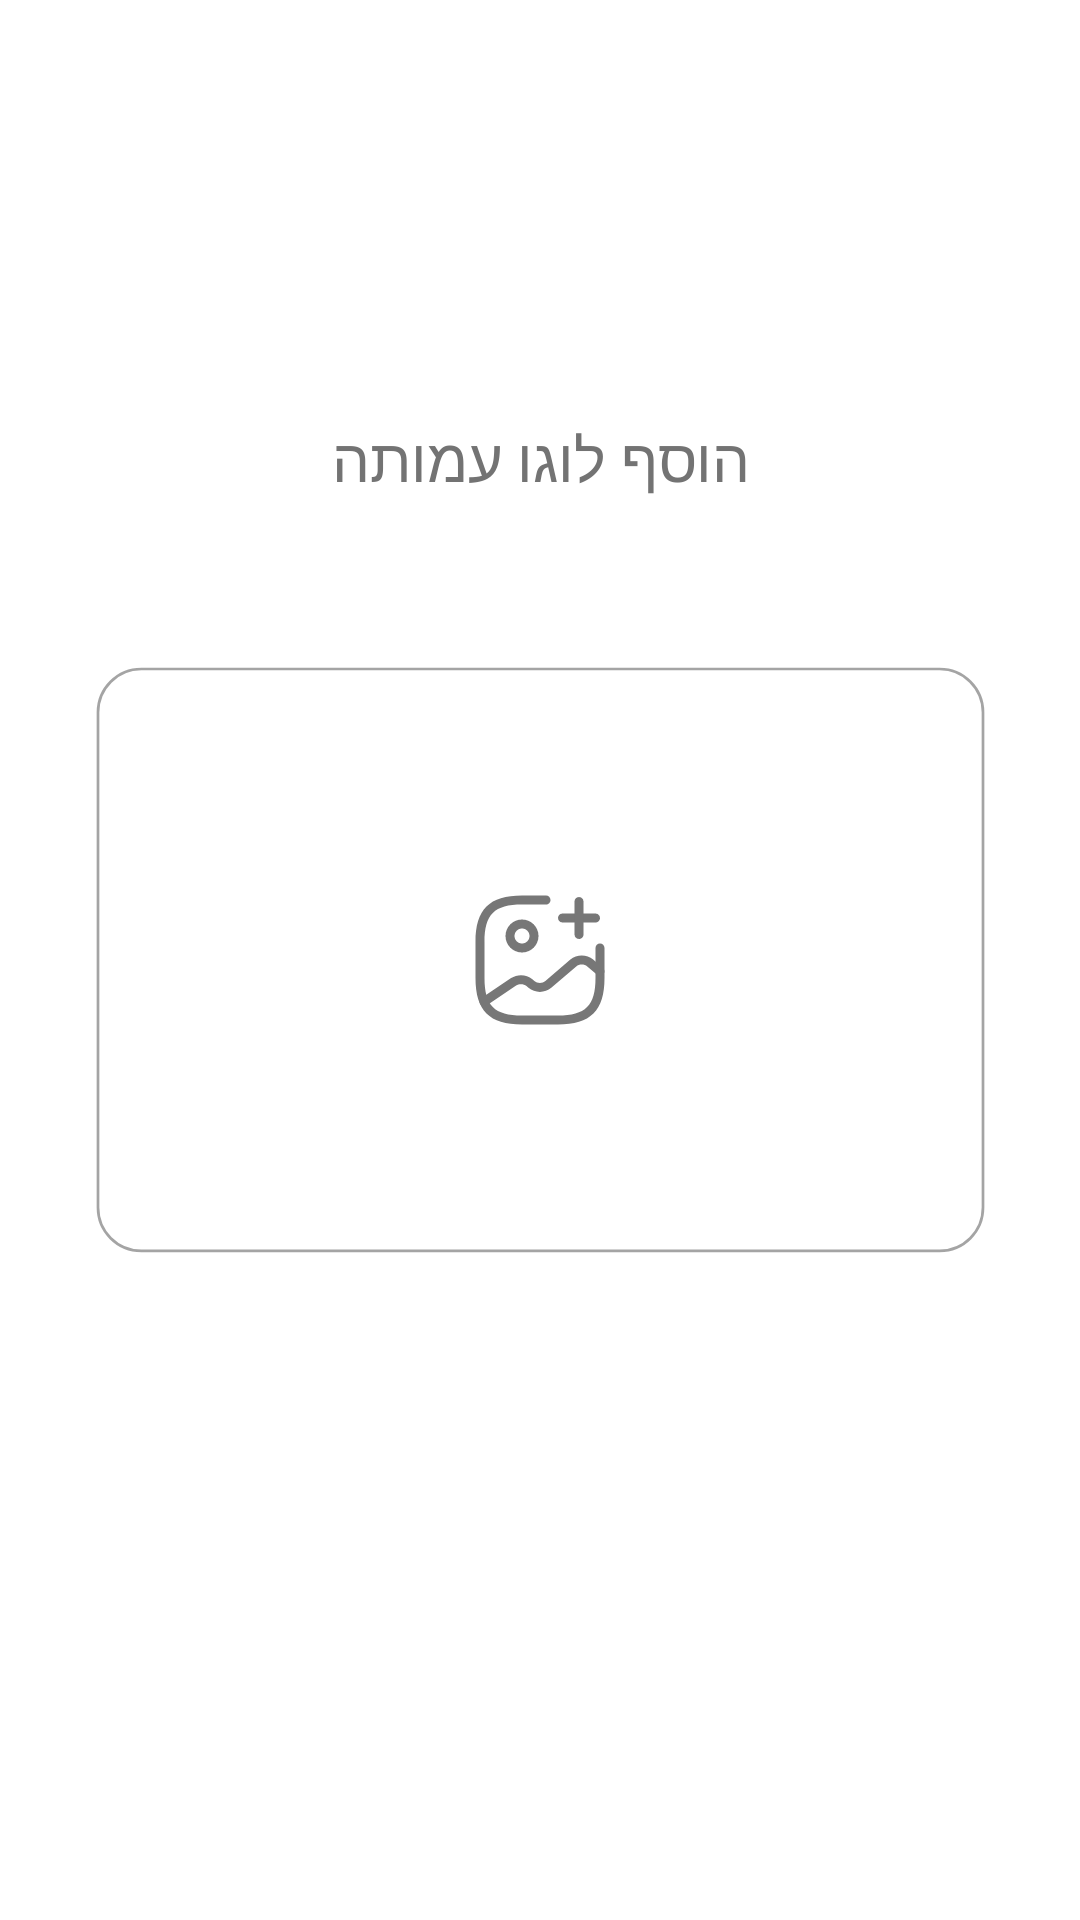

Where icons sit on this 1080*1920 app screen, as BBox(x1, y1, x2, y2):
gallery add: BBox(475, 895, 605, 1025)
